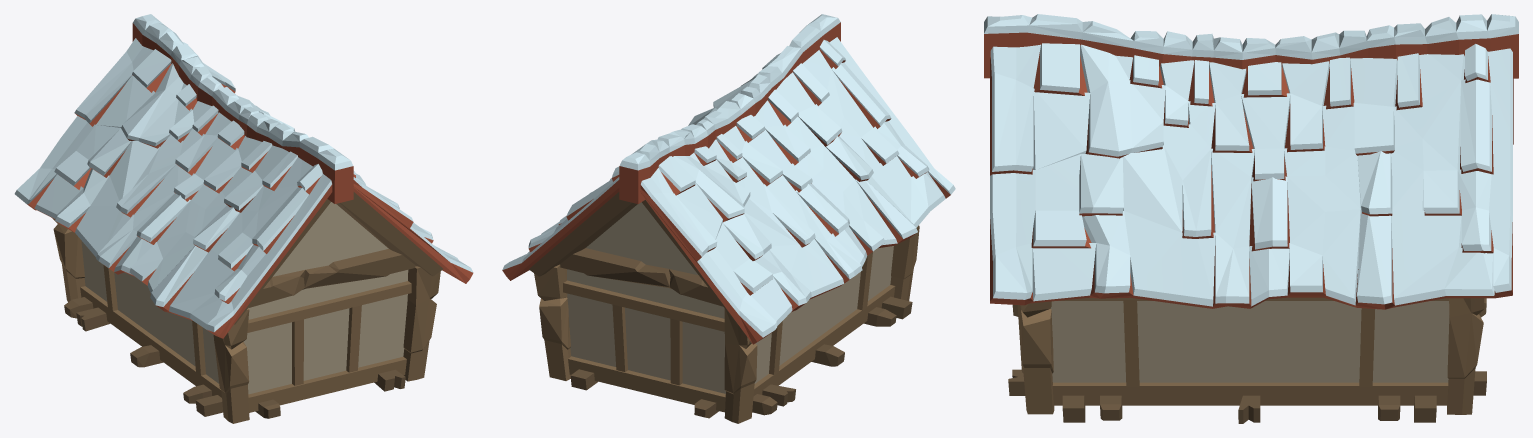
The model's file is SM_Bld_House_RoomTop_07_Snow.glb.
The picture shows the model from 3 angles, left to right: view 1: azimuth 30°, elevation 25°; view 2: azimuth 150°, elevation 25°; view 3: azimuth 270°, elevation 25°; orthographic projection. The views are drawn at different scales.
Visible parts, largest first — view 1: SM_Bld_House_RoomTop_07_Snow; view 2: SM_Bld_House_RoomTop_07_Snow; view 3: SM_Bld_House_RoomTop_07_Snow.
Part boxes in pixels (<box>): SM_Bld_House_RoomTop_07_Snow: <box>14,14,473,423</box>; SM_Bld_House_RoomTop_07_Snow: <box>502,14,955,423</box>; SM_Bld_House_RoomTop_07_Snow: <box>984,14,1518,423</box>.
Bounding box in the file's own units: 5.43 × 4.74 × 6.86.
1 material, 1 textured.
